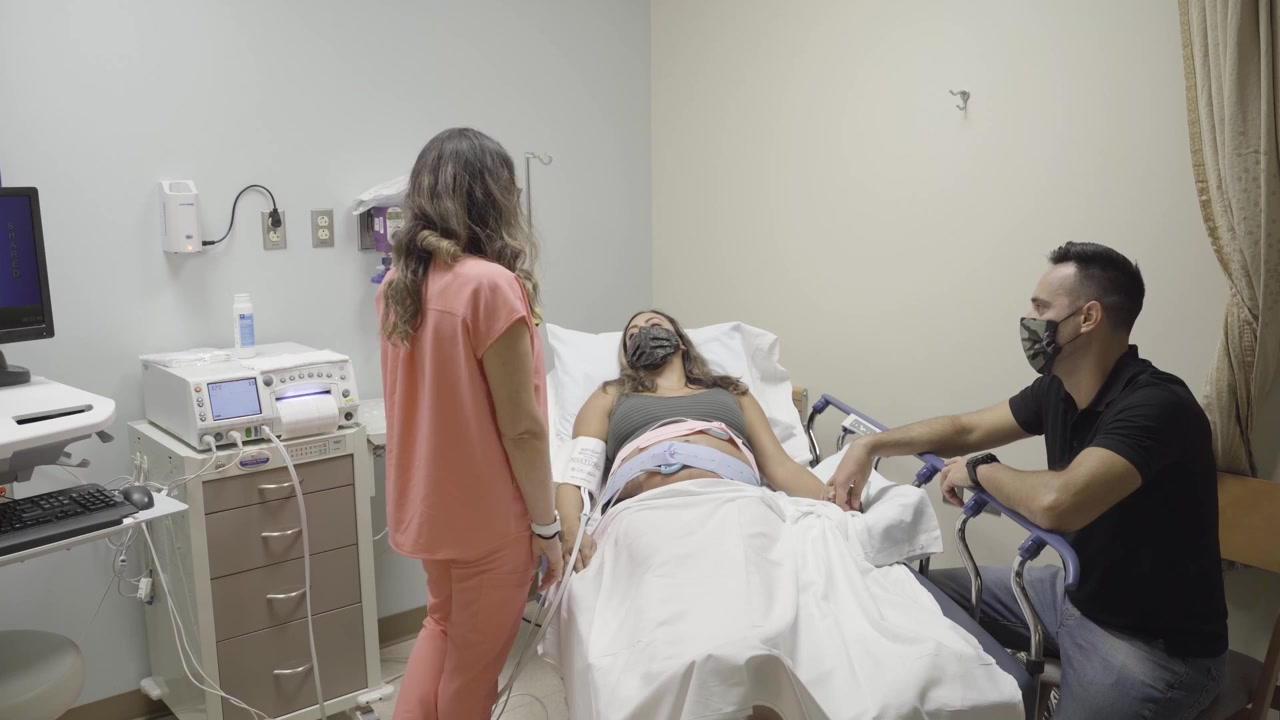bedrail: (802, 385, 1079, 720)
chair: (1216, 467, 1280, 720), (1, 630, 86, 720)
computer: (1, 187, 56, 344)
curtain: (1179, 1, 1280, 476)
handle: (272, 662, 313, 676), (257, 478, 304, 490), (266, 587, 309, 600), (259, 528, 300, 538)
hospital_bed: (509, 313, 1081, 720)
iv_pole: (518, 147, 554, 277)
keyboard: (1, 484, 138, 558)
medical_drawer: (128, 416, 383, 720)
mouse: (120, 485, 154, 509)
patient: (554, 308, 861, 718)
staff: (372, 127, 563, 720)
visitor: (822, 240, 1226, 720)
